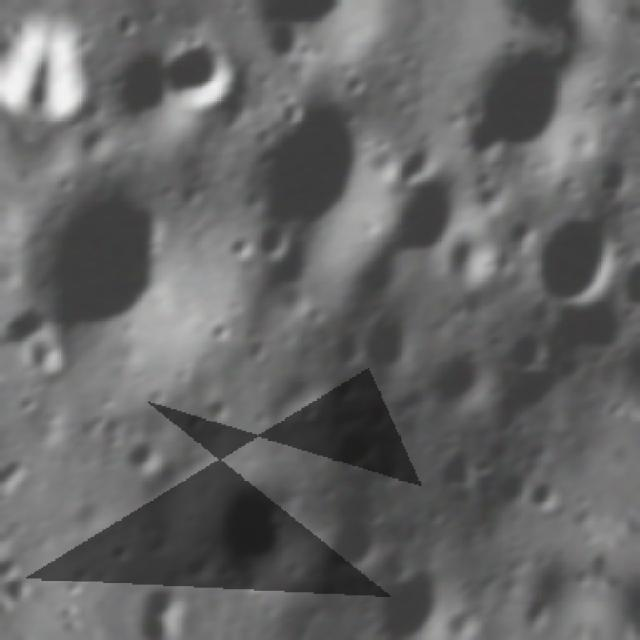crater: (0, 147, 215, 393), (217, 66, 398, 272), (447, 23, 605, 182), (369, 150, 503, 284), (512, 192, 628, 318), (196, 470, 315, 582), (153, 24, 250, 124), (358, 555, 472, 640), (0, 320, 86, 402), (349, 288, 429, 375), (314, 500, 398, 582), (419, 334, 498, 414), (244, 0, 358, 49), (433, 224, 502, 290), (494, 316, 558, 382), (242, 213, 298, 278), (516, 462, 575, 521), (257, 13, 308, 72), (133, 573, 195, 621), (119, 426, 173, 480), (483, 453, 529, 512), (615, 238, 640, 317), (586, 531, 606, 586), (638, 158, 640, 236)
